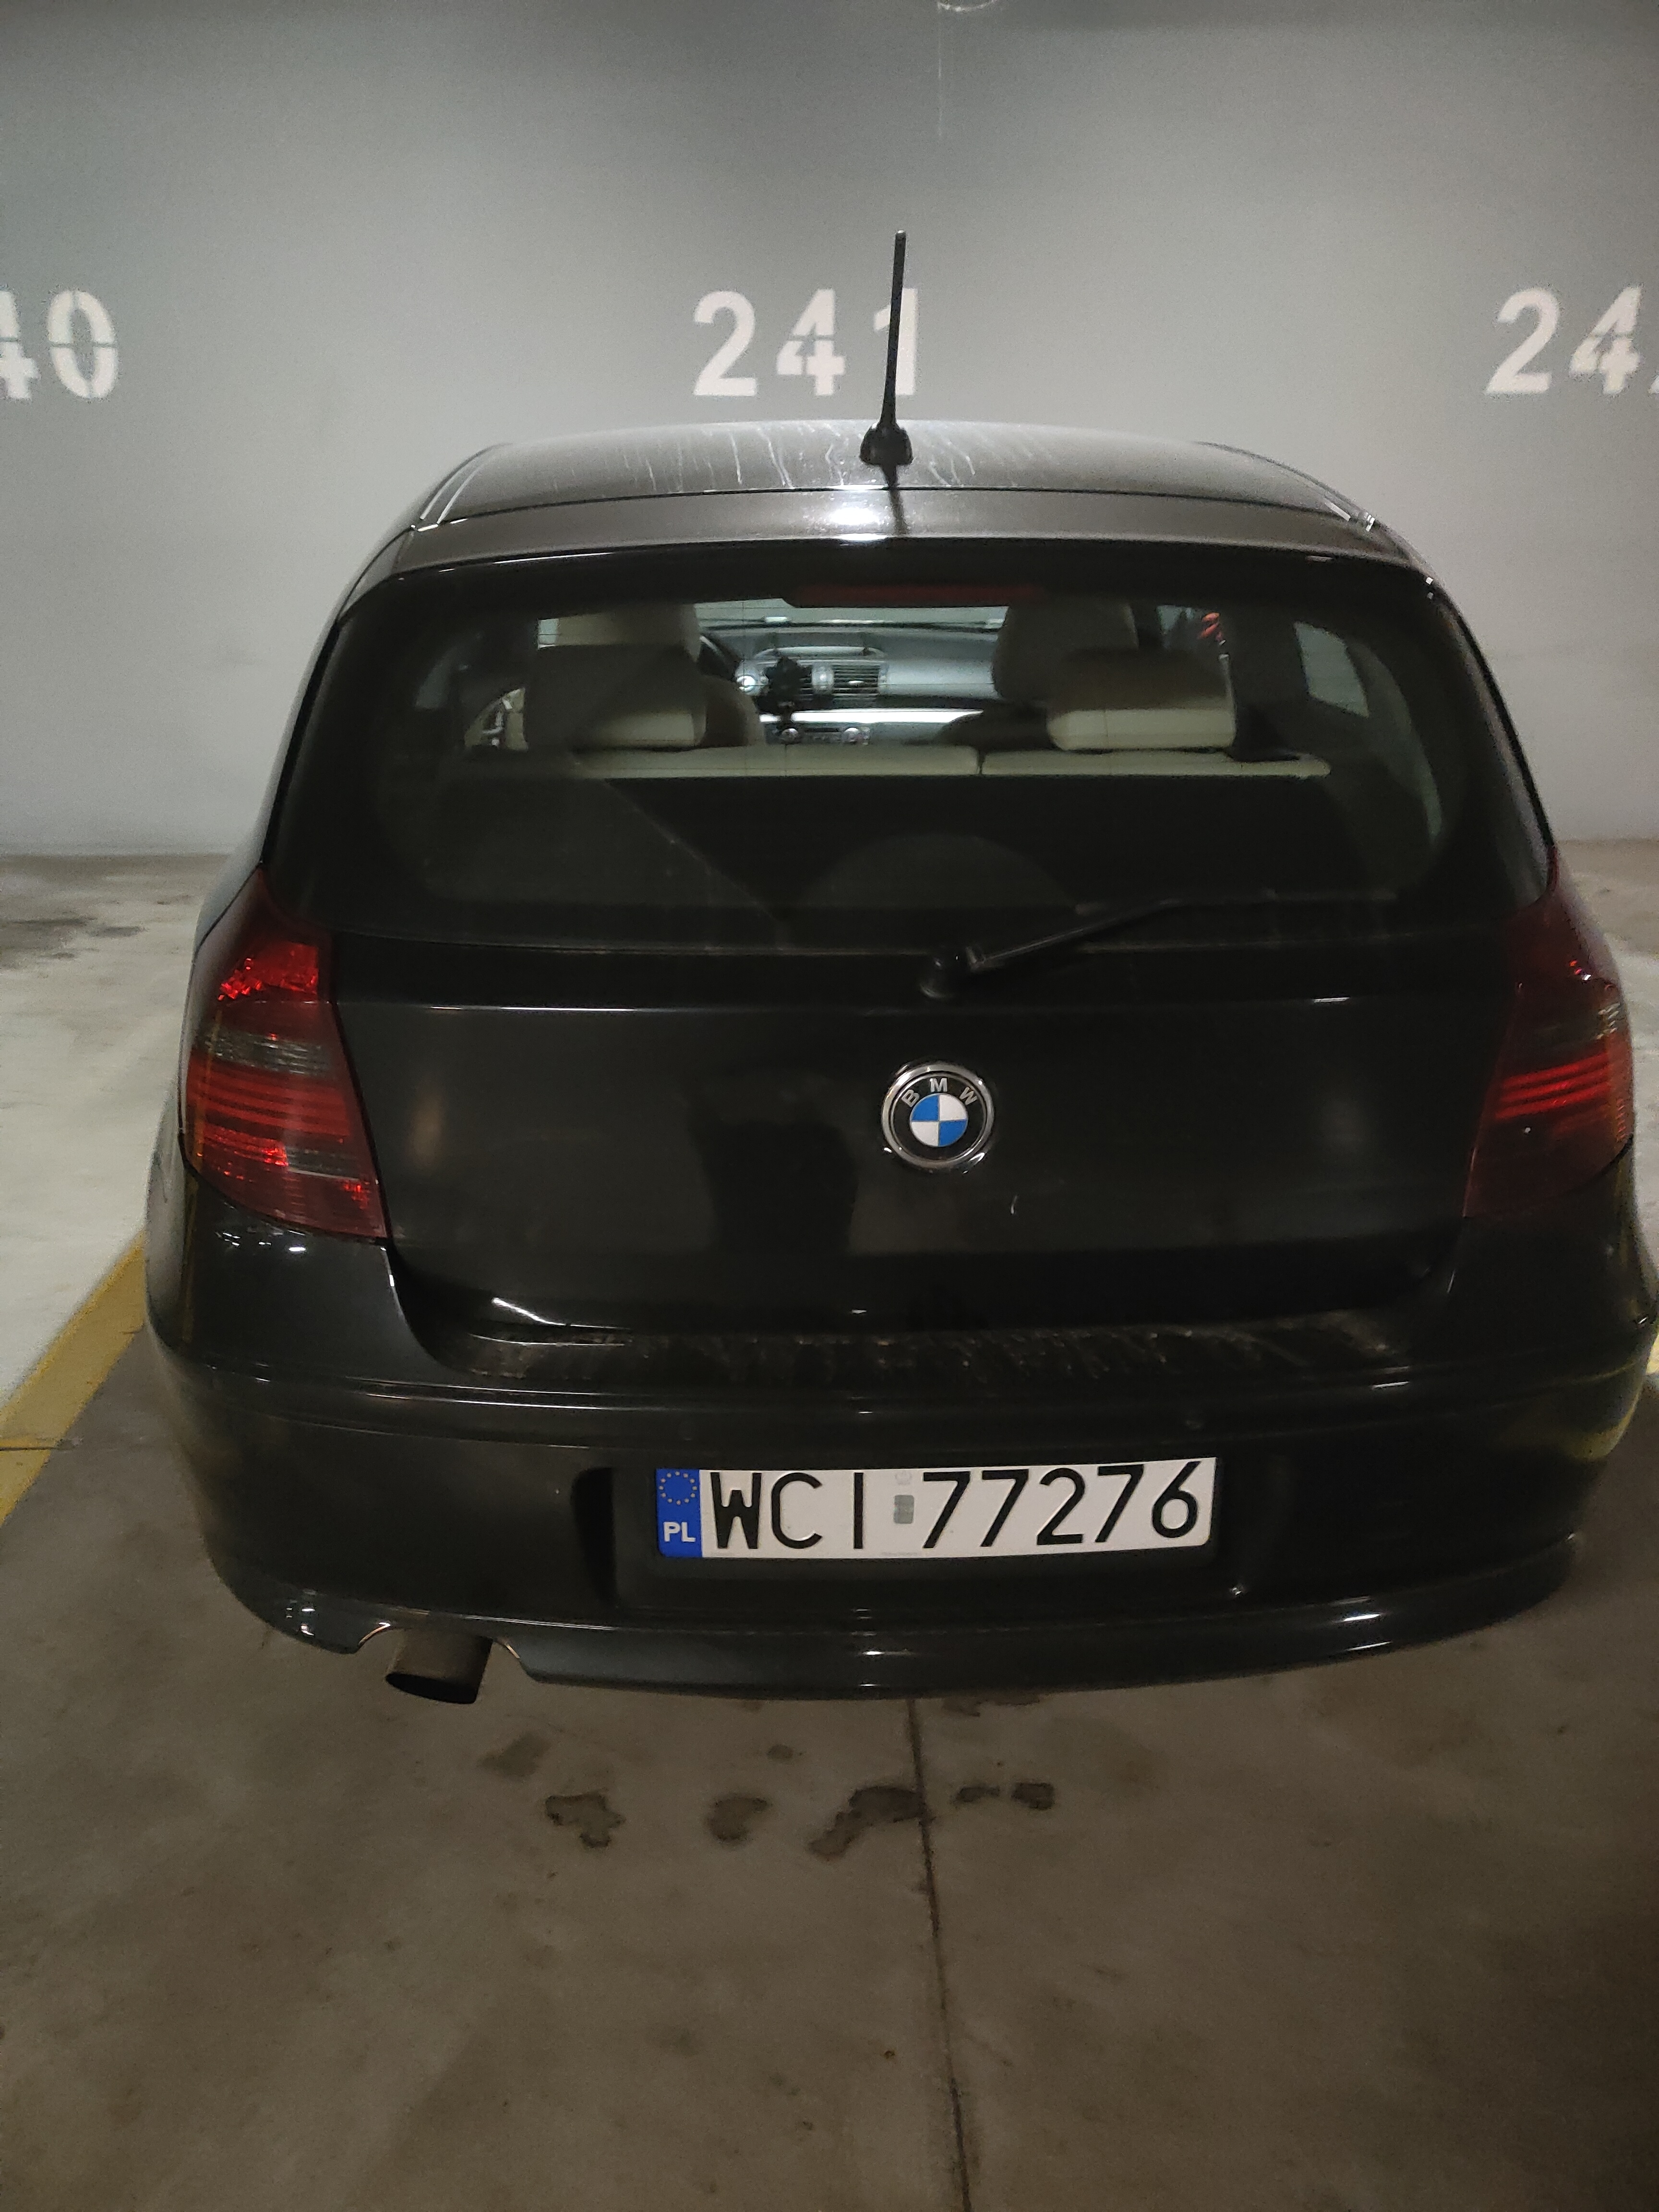number_plate: (649, 1454, 1218, 1581)
